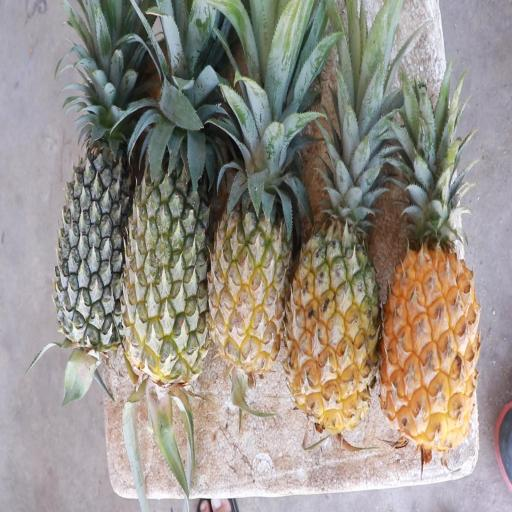------------------------------: (127, 101, 213, 382)
Pineapple - v8 v1: (384, 197, 479, 437), (289, 192, 383, 432), (212, 154, 294, 372)
